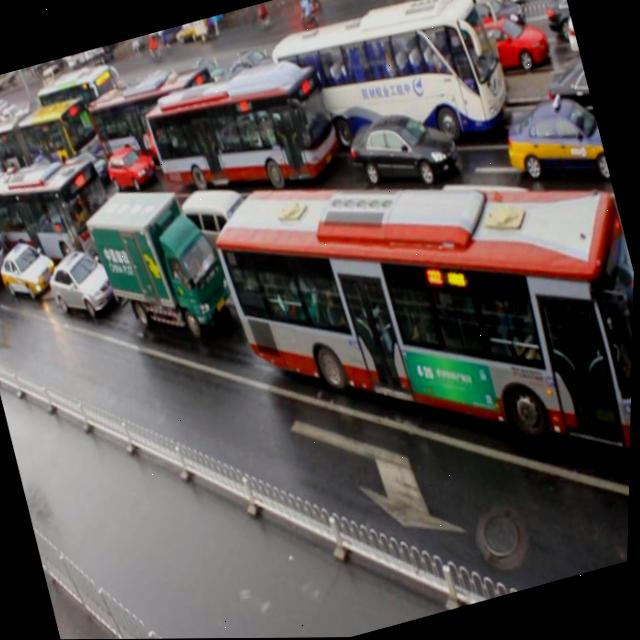bus: (78, 166, 238, 356)
car: (274, 185, 407, 309), (496, 87, 613, 204), (342, 98, 464, 201), (100, 196, 188, 282), (42, 237, 121, 321), (538, 57, 602, 148), (0, 232, 63, 303), (104, 141, 161, 197), (58, 146, 115, 202)
truck: (418, 152, 591, 337), (176, 174, 279, 286)
van: (202, 94, 638, 540), (265, 0, 517, 181), (140, 47, 348, 217), (0, 146, 129, 291), (83, 62, 232, 186), (0, 94, 104, 184), (0, 190, 16, 294)
